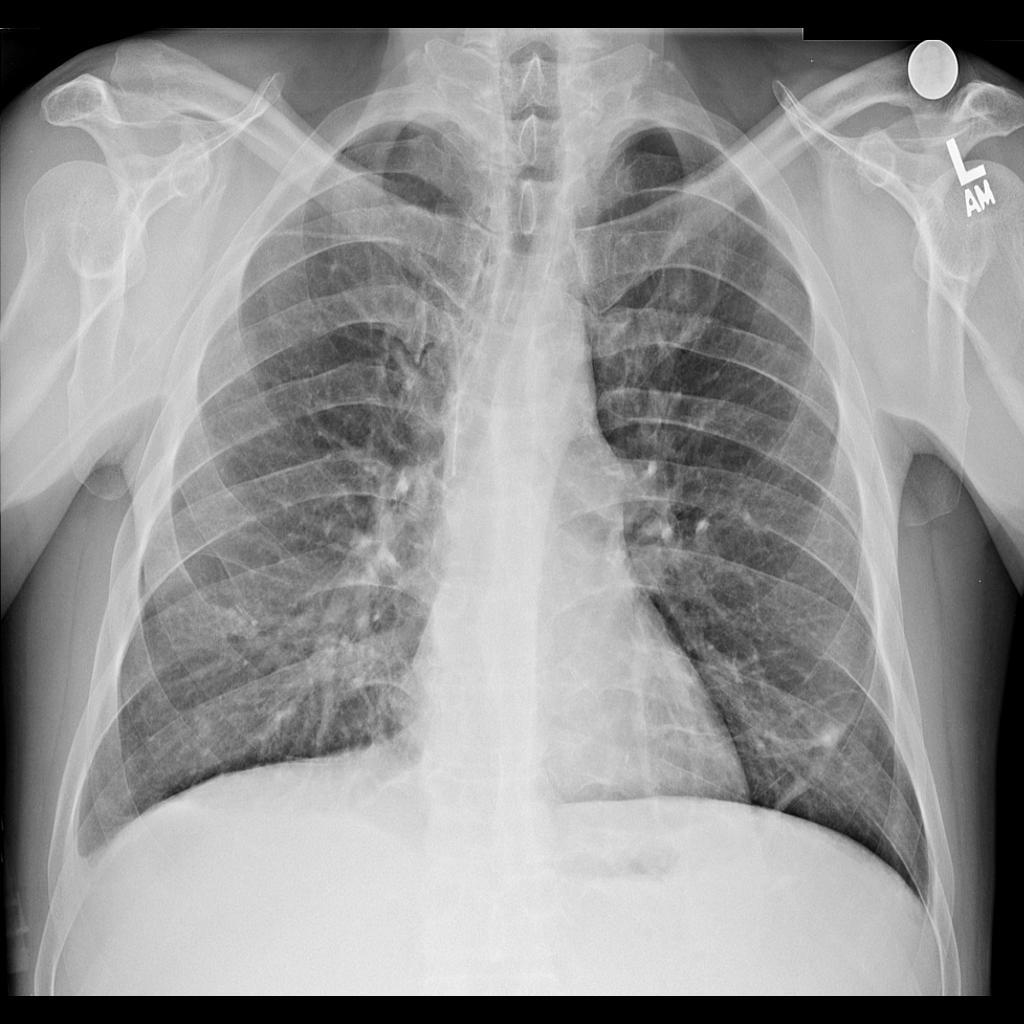Nodule: (813, 720, 848, 751)
